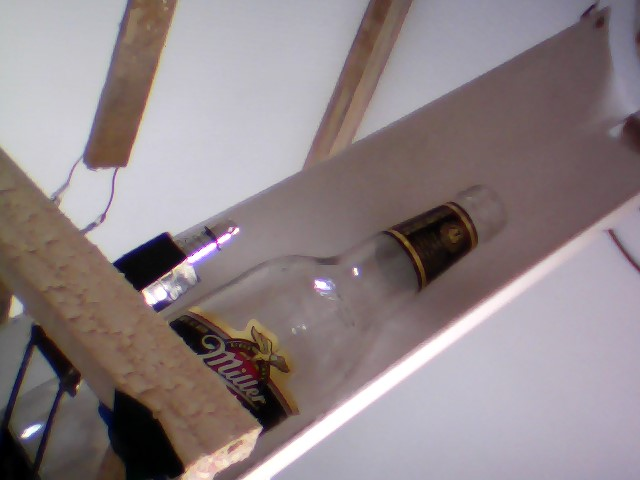vidrio: (168, 180, 518, 432)
